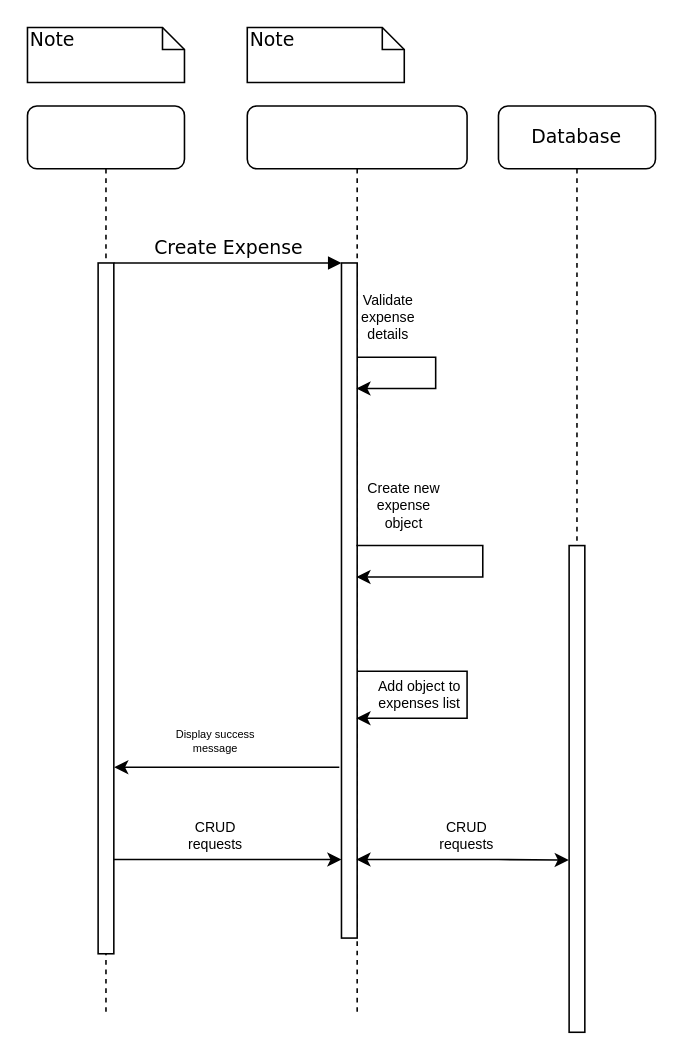
Image size: 683x1060. Some labels were removed from this diagram. The box of each missing label's shape, as (x1, y1, x2, y2) in pixels:
ExpensesApp: (246, 104, 467, 1017)
User: (26, 104, 184, 1017)
